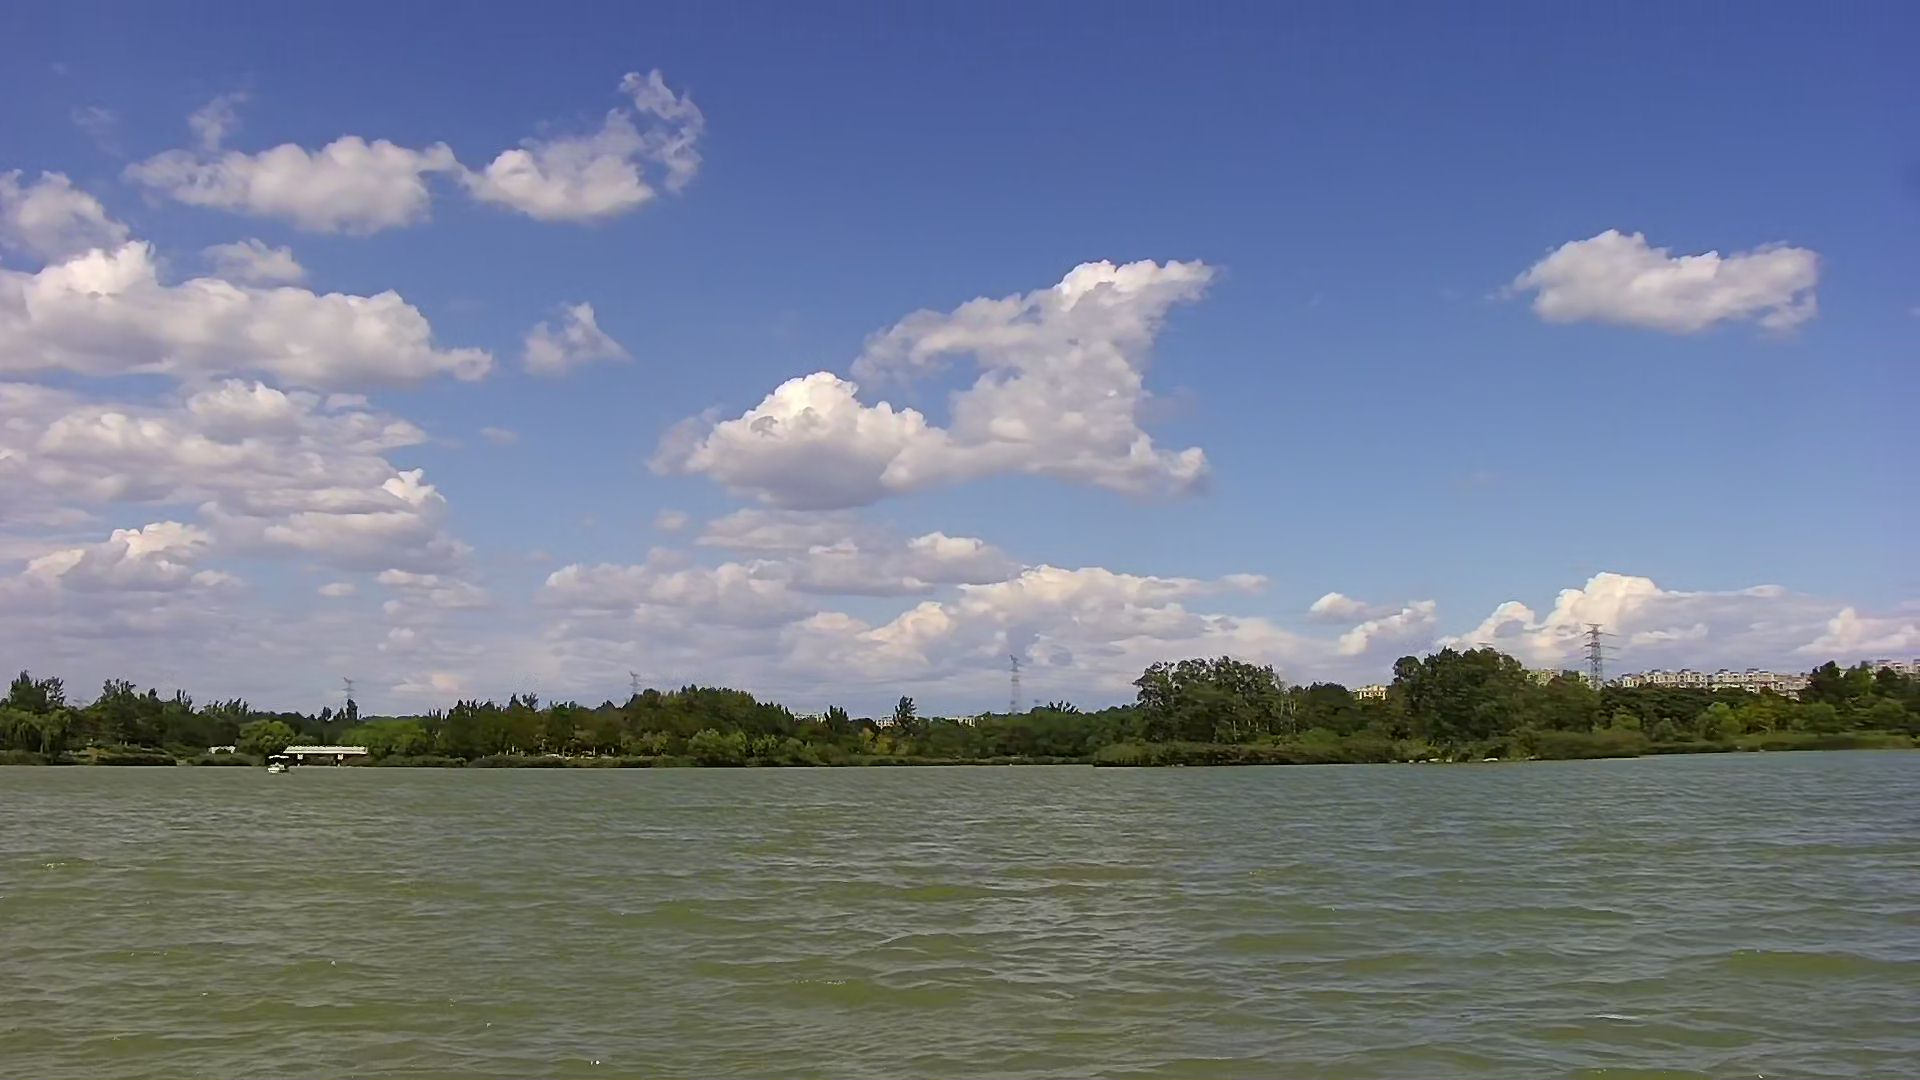bridge: (285, 737, 380, 766)
